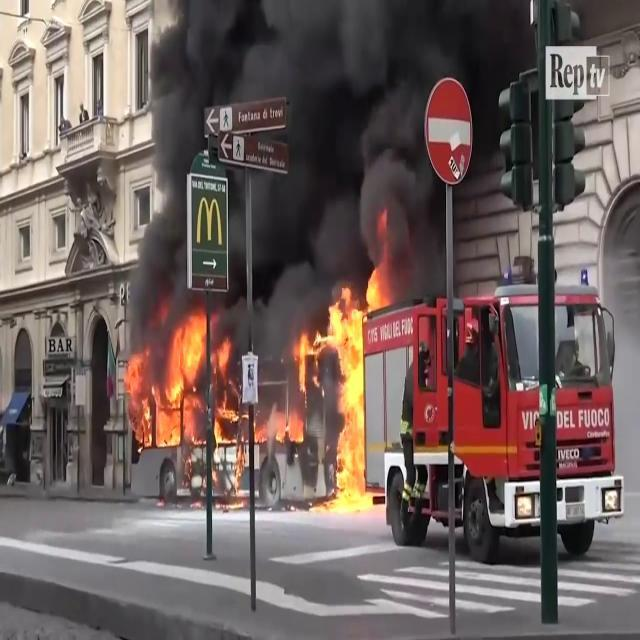Fire: (308, 275, 381, 513), (125, 308, 219, 451), (256, 400, 306, 452)
Smoke: (128, 1, 442, 322)
